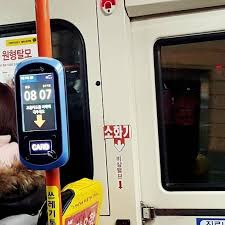terminal: (12, 57, 74, 171)
